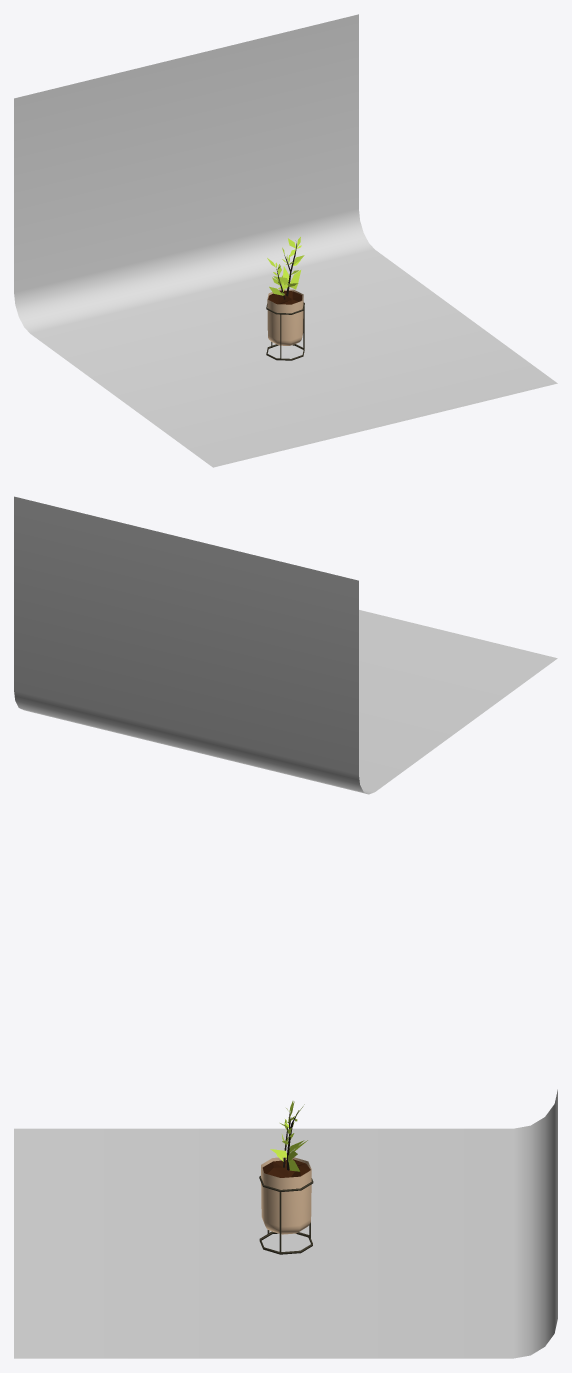
Rendered from flower_pot.fbx.
3 renders of one model, top to bottom at view 1: azimuth 30°, elevation 25°; view 2: azimuth 150°, elevation 25°; view 3: azimuth 270°, elevation 25°, orthographic. The views are drawn at different scales.
Visible parts, largest first — view 1: Plane, Pot, Leaf; view 2: Plane; view 3: Plane, Pot, Stand.
Part boxes in pixels (x1,y1,x2,y2): Plane: [14, 14, 557, 467]; Pot: [267, 289, 303, 345]; Leaf: [267, 237, 304, 295]; Plane: [14, 496, 557, 794]; Plane: [14, 1089, 557, 1358]; Pot: [261, 1157, 311, 1234]; Stand: [259, 1176, 313, 1254].
Size of the model in its own units: 420 by 420 by 260.
